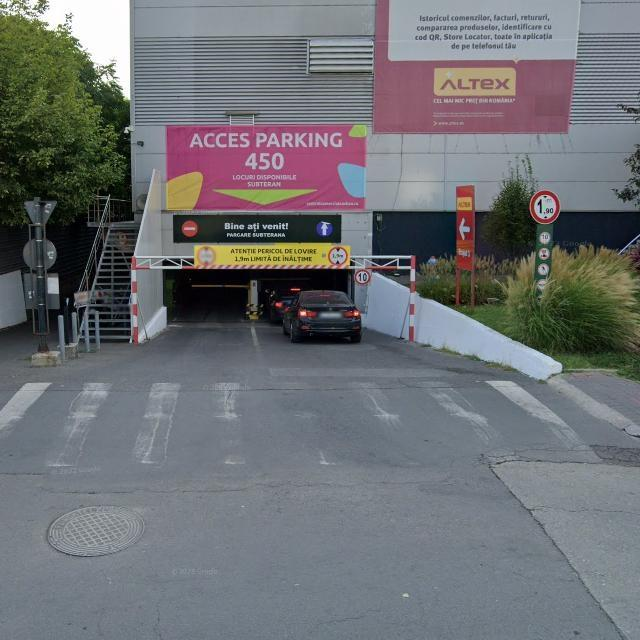forb_speed_over_10: (355, 269, 372, 285), (539, 231, 550, 245)
